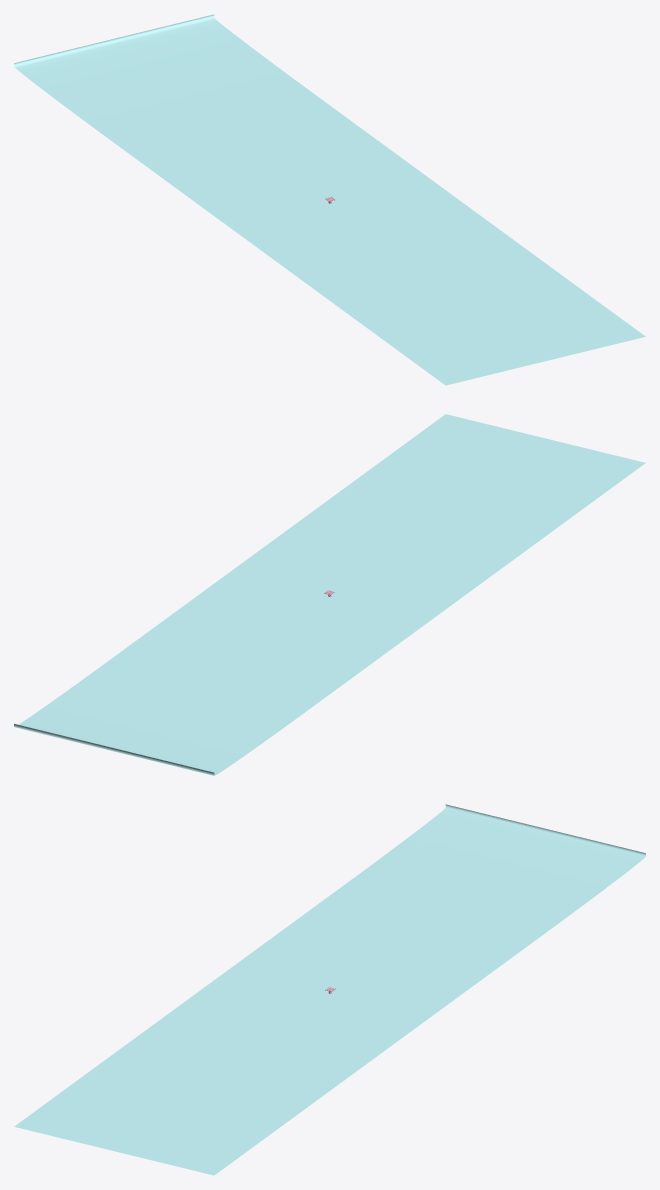
Rendered from echec.glb.
3 views of the same model, one above another, from view 1: azimuth 30°, elevation 25°; view 2: azimuth 150°, elevation 25°; view 3: azimuth 330°, elevation 25° (orthographic).
Visible parts, largest first — view 1: Plane.001; view 2: Plane.001; view 3: Plane.001.
Boxes of the visible parts, left/top/right/bottom form: Plane.001: left=14, top=14, right=645, bottom=385; Plane.001: left=14, top=414, right=645, bottom=775; Plane.001: left=14, top=804, right=645, bottom=1175.
Size of the model in its own units: 1606 by 63.45 by 5998.
Materials: 5 (2 with a texture image).
